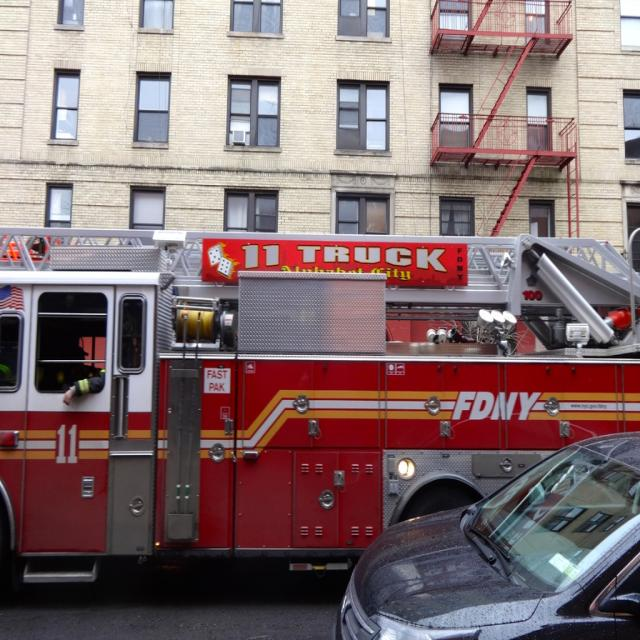other: (332, 431, 640, 639)
